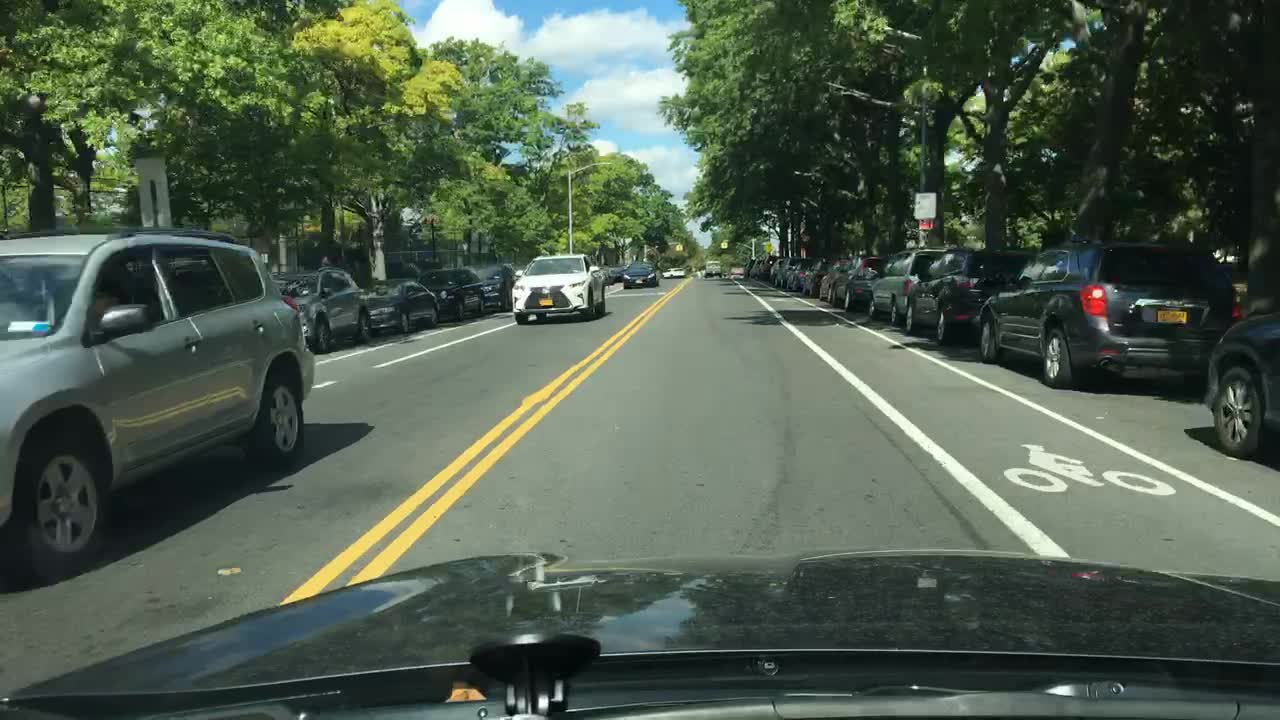car: (1, 224, 319, 572), (976, 235, 1243, 388), (1202, 268, 1277, 460), (903, 246, 1040, 346), (278, 268, 374, 352), (509, 252, 605, 326), (865, 249, 949, 326), (363, 277, 440, 334), (417, 266, 487, 321), (843, 257, 891, 312), (472, 261, 513, 310), (820, 259, 858, 298), (801, 259, 831, 293), (622, 264, 660, 288), (789, 260, 812, 287), (779, 257, 801, 285), (760, 253, 778, 277), (770, 258, 784, 282), (704, 260, 723, 277), (603, 261, 618, 281), (614, 259, 628, 279), (743, 255, 755, 275), (749, 259, 763, 276), (662, 268, 684, 277)
traffic light: (675, 243, 684, 254), (721, 238, 727, 248)
traffic sign: (138, 159, 171, 223), (912, 192, 937, 218), (917, 221, 936, 230)
